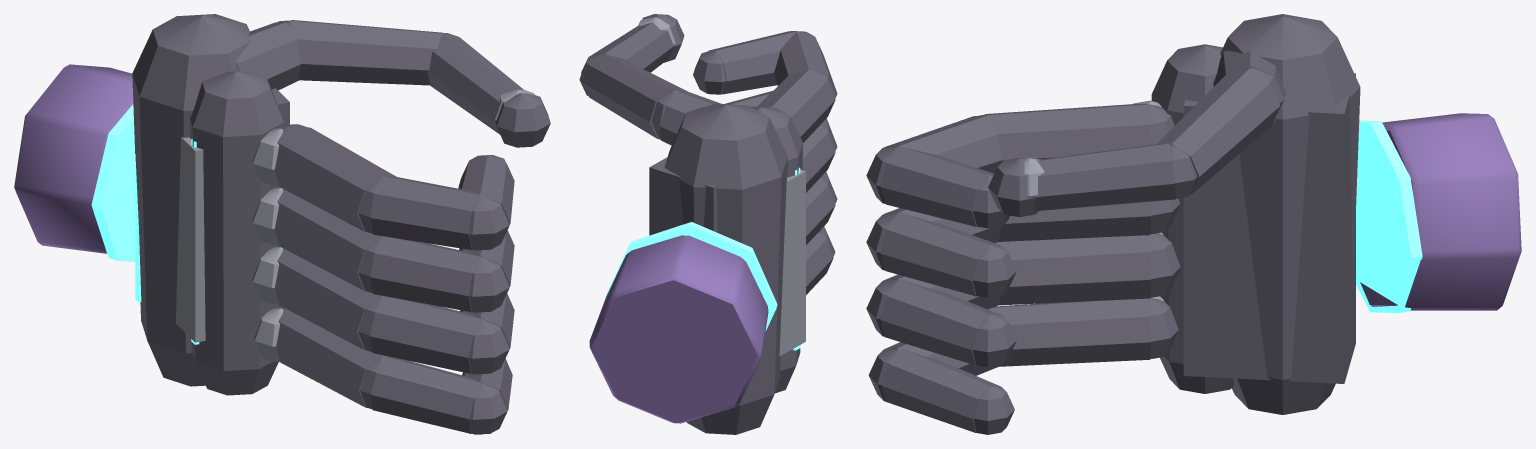
The model's file is w_hand_grip.glb.
3 renders of one model, left to right at view 1: azimuth 30°, elevation 25°; view 2: azimuth 150°, elevation 25°; view 3: azimuth 270°, elevation 25°, orthographic. The views are drawn at different scales.
Visible parts, largest first — view 1: glove, sleeve, body, acc; view 2: glove, sleeve, body, acc; view 3: glove, sleeve, acc, body.
Boxes of the visible parts, x1,y1,x2,y2 form: glove: (132, 14, 550, 434); sleeve: (14, 64, 133, 253); body: (176, 89, 534, 361); acc: (91, 104, 199, 344); glove: (579, 14, 837, 434); sleeve: (589, 235, 768, 423); body: (638, 17, 805, 355); acc: (605, 167, 800, 350); glove: (866, 14, 1360, 434); sleeve: (1360, 113, 1521, 310); acc: (1356, 120, 1422, 313); body: (1024, 100, 1164, 301).
Bounding box in the file's own units: 0.1287 × 0.135 × 0.2023.
